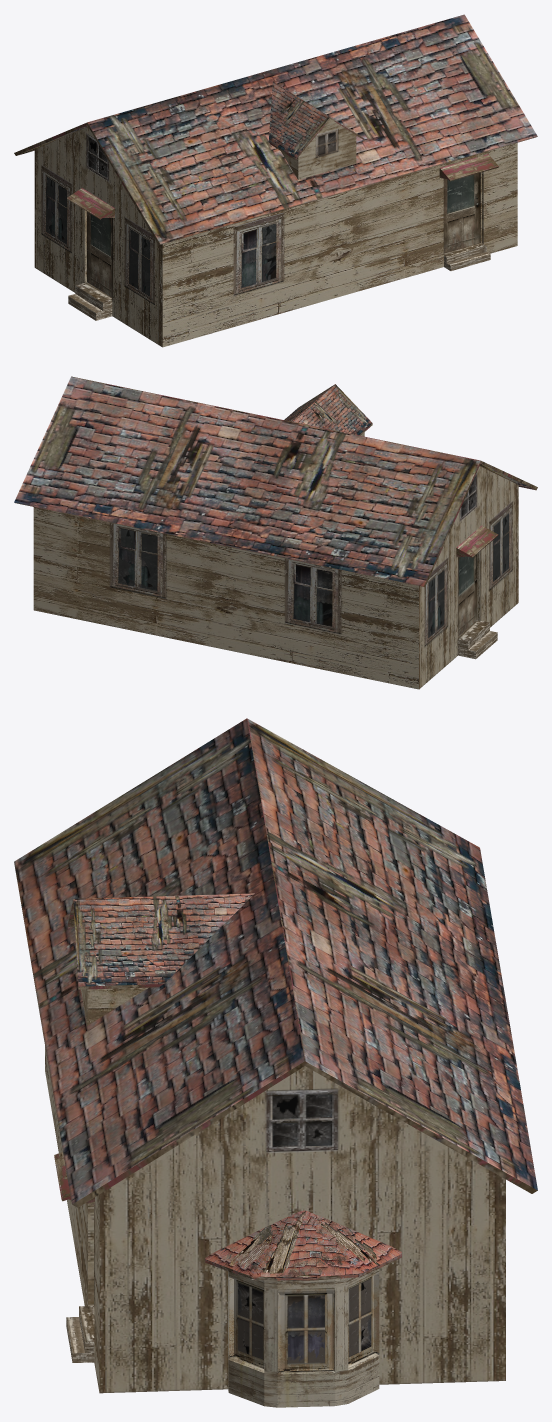
File: cottage.obj
The picture shows the model from 3 angles, top to bottom: view 1: azimuth 30°, elevation 25°; view 2: azimuth 150°, elevation 25°; view 3: azimuth 270°, elevation 25°; orthographic projection. The views are drawn at different scales.
Visible parts, largest first — view 1: Cube_Cube.002; view 2: Cube_Cube.002; view 3: Cube_Cube.002.
Boxes of the visible parts, x1,y1,x2,y2 form: Cube_Cube.002: (14, 14, 537, 347); Cube_Cube.002: (14, 376, 537, 689); Cube_Cube.002: (14, 718, 537, 1407).
Bounding box in the file's own units: 33.93 × 14.67 × 20.74.
